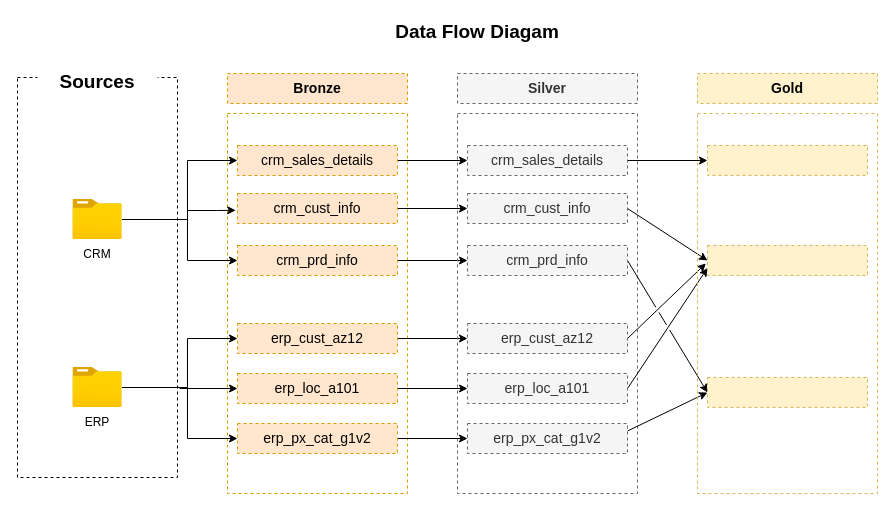
Image size: 895x511. Some labels were removed from this diagram. The shapes that lost their labels are listed below. From the top down, each one's centre as x and y in pixels, then its label:
At point (787, 160): "fact_sales".
At point (787, 260): "dim_customers".
At point (787, 392): "dim_products".
